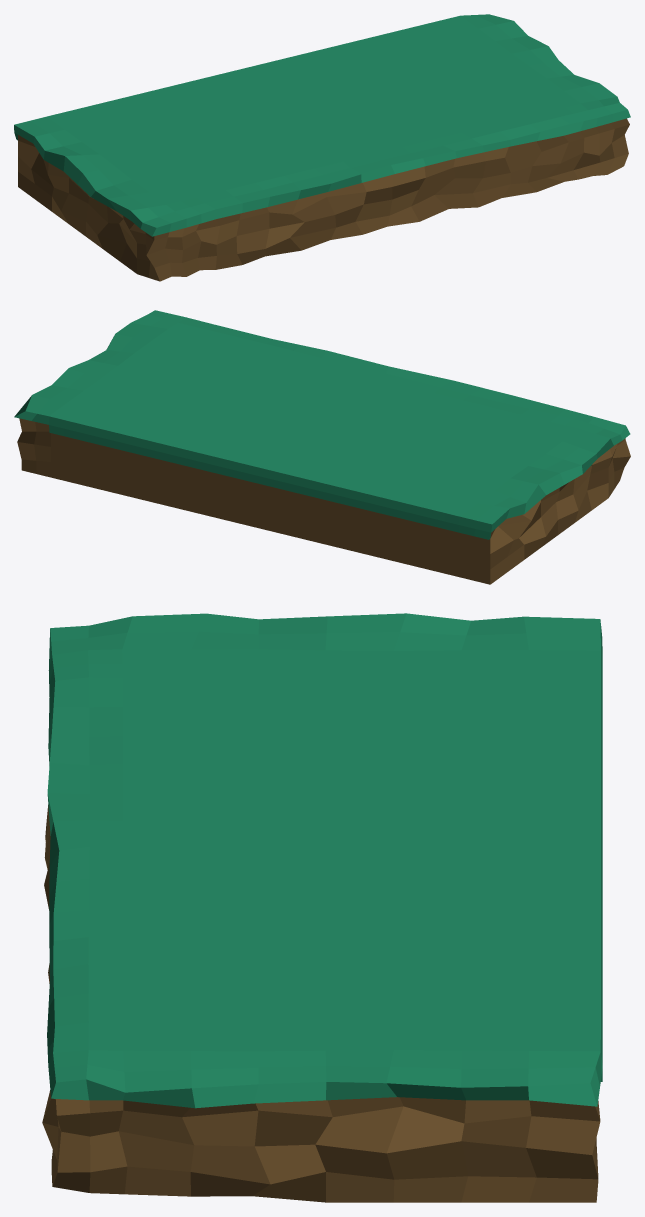
File: largeGrass.fbx
3 views of the same model, one above another, from view 1: azimuth 30°, elevation 25°; view 2: azimuth 150°, elevation 25°; view 3: azimuth 270°, elevation 25° (orthographic). The views are drawn at different scales.
Visible parts, largest first — view 1: LargeGrass; view 2: LargeGrass; view 3: LargeGrass.
Boxes of the visible parts, bbox=[...] form: LargeGrass: bbox=[14, 14, 630, 281]; LargeGrass: bbox=[14, 310, 630, 584]; LargeGrass: bbox=[42, 613, 602, 1202].
Size of the model in its own units: 16.67 by 2.14 by 8.29.
